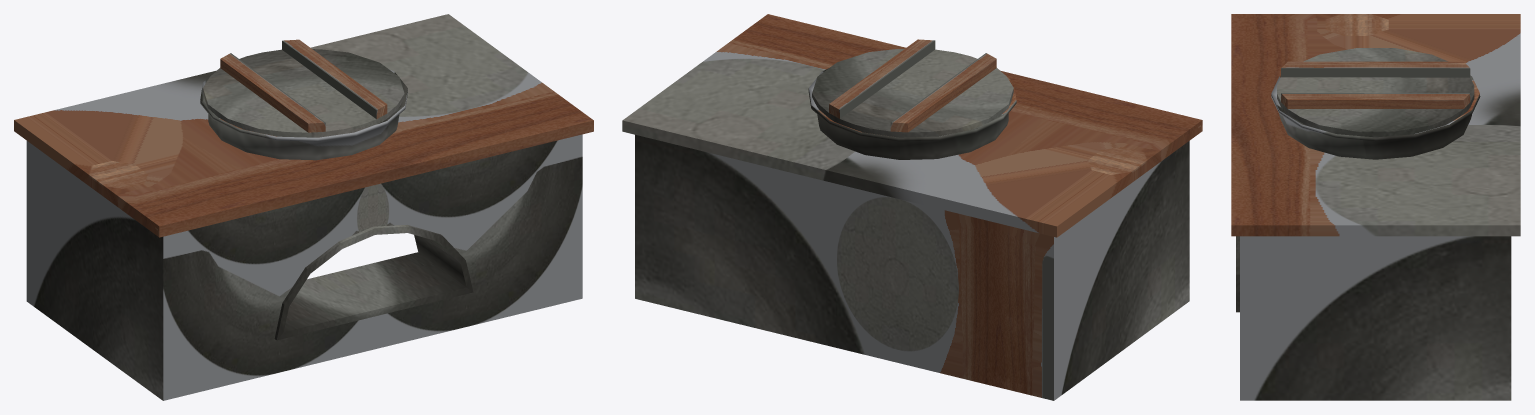
File: Table_7.FBX
The picture shows the model from 3 angles, left to right: view 1: azimuth 30°, elevation 25°; view 2: azimuth 150°, elevation 25°; view 3: azimuth 270°, elevation 25°; orthographic projection.
Visible parts, largest first — view 1: Table_7; view 2: Table_7; view 3: Table_7.
Boxes of the visible parts, <box> form: Table_7: <box>14,14,593,400</box>; Table_7: <box>622,14,1202,400</box>; Table_7: <box>1231,14,1520,400</box>.
Bounding box in the file's own units: 1.76 × 0.8474 × 1.02.
